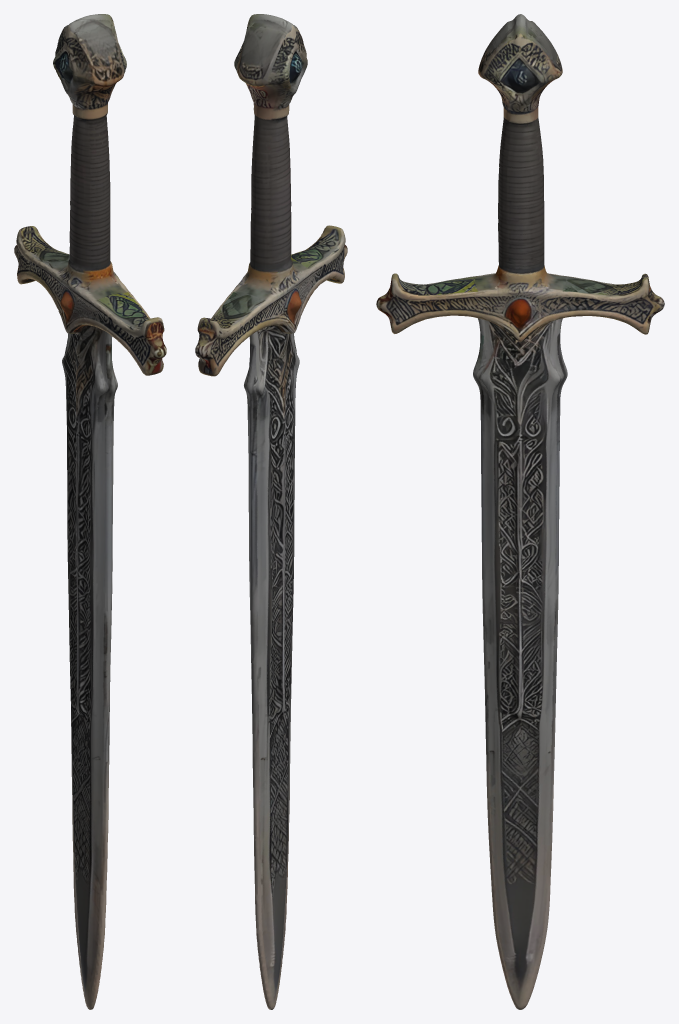
File: 2307e4cf-3870-40f3-9f3b-3a34f4ebdda2.glb
The picture shows the model from 3 angles, left to right: view 1: azimuth 30°, elevation 25°; view 2: azimuth 150°, elevation 25°; view 3: azimuth 270°, elevation 25°; orthographic projection.
Parts seen in each view (by area): view 1: tripo_node_2307e4cf-3870-40f3-9f3b-3a34f4ebdda2; view 2: tripo_node_2307e4cf-3870-40f3-9f3b-3a34f4ebdda2; view 3: tripo_node_2307e4cf-3870-40f3-9f3b-3a34f4ebdda2.
Boxes of the visible parts, bbox=[...] form: tripo_node_2307e4cf-3870-40f3-9f3b-3a34f4ebdda2: bbox=[14, 14, 166, 1009]; tripo_node_2307e4cf-3870-40f3-9f3b-3a34f4ebdda2: bbox=[195, 14, 347, 1009]; tripo_node_2307e4cf-3870-40f3-9f3b-3a34f4ebdda2: bbox=[376, 14, 664, 1009].
Size of the model in its own units: 0.0628 by 1 by 0.2639.
1 material, 1 textured.
